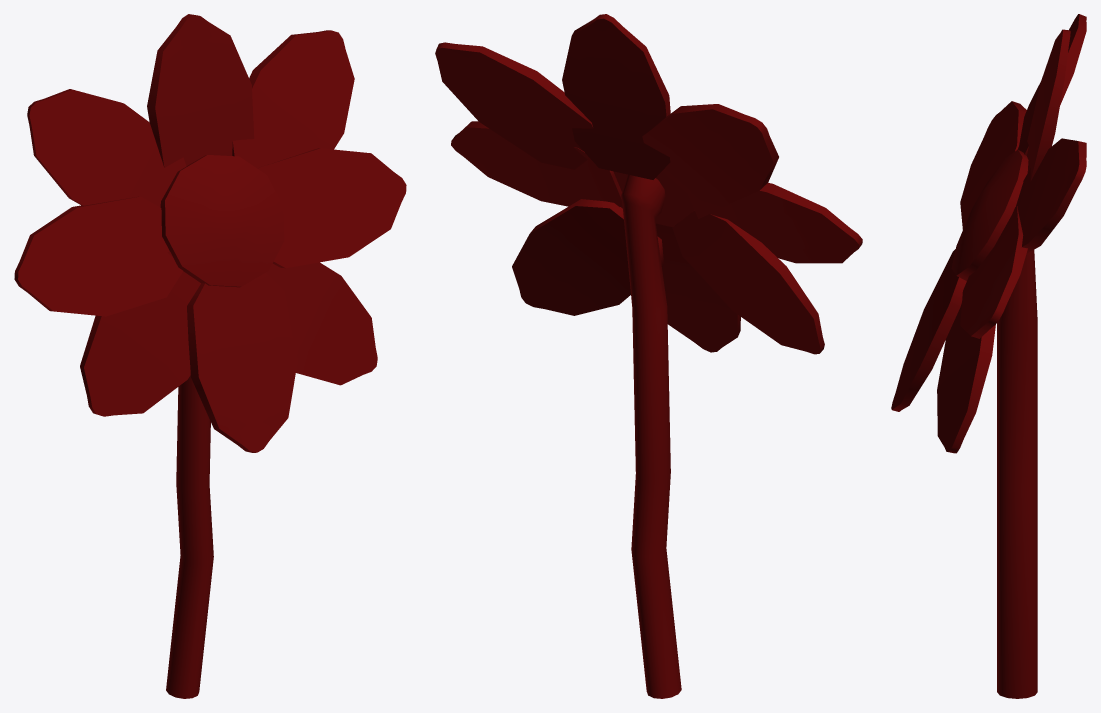
Rendered from flower 1.FBX.
The picture shows the model from 3 angles, left to right: view 1: azimuth 30°, elevation 25°; view 2: azimuth 150°, elevation 25°; view 3: azimuth 270°, elevation 25°; orthographic projection. The views are drawn at different scales.
Parts seen in each view (by area): view 1: Object002, Box002, Cylinder002, Box004, Box005, Object006, Box006, Object004, Cylinder001, Object005; view 2: Cylinder001, Object006, Object005, Box006, Object004, Box004, Box002, Box005, Object002, Cylinder002; view 3: Cylinder001, Object005, Box006, Box005, Cylinder002, Object002, Box002, Object006, Box004.
Boxes of the visible parts, bbox=[...] form: Object002: bbox=[187, 272, 297, 452]; Box002: bbox=[14, 196, 182, 316]; Cylinder002: bbox=[160, 155, 284, 287]; Box004: bbox=[27, 89, 186, 207]; Box005: bbox=[258, 148, 406, 268]; Object006: bbox=[147, 14, 254, 167]; Box006: bbox=[232, 30, 354, 169]; Object004: bbox=[80, 251, 200, 416]; Cylinder001: bbox=[166, 375, 213, 698]; Object005: bbox=[266, 262, 377, 385]; Cylinder001: bbox=[621, 174, 681, 698]; Object006: bbox=[562, 14, 670, 179]; Object005: bbox=[512, 199, 663, 315]; Box006: bbox=[435, 42, 593, 169]; Object004: bbox=[672, 210, 824, 354]; Box004: bbox=[642, 104, 778, 206]; Box002: bbox=[688, 182, 862, 263]; Box005: bbox=[451, 121, 622, 206]; Object002: bbox=[656, 223, 740, 352]; Cylinder002: bbox=[613, 171, 694, 227]; Cylinder001: bbox=[997, 250, 1037, 698]; Object005: bbox=[937, 303, 995, 453]; Box006: bbox=[1016, 138, 1086, 253]; Box005: bbox=[960, 206, 1027, 338]; Cylinder002: bbox=[951, 149, 1028, 280]; Object002: bbox=[891, 249, 966, 411]; Box002: bbox=[960, 101, 1026, 229]; Object006: bbox=[1027, 29, 1070, 181]; Box004: bbox=[1017, 14, 1086, 155].
Size of the model in its own units: 16.41 by 26.32 by 6.88.
